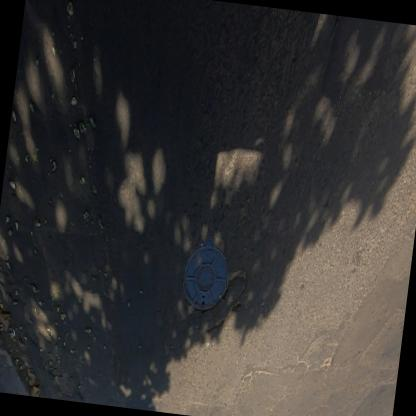manholes: (172, 220, 237, 324)
